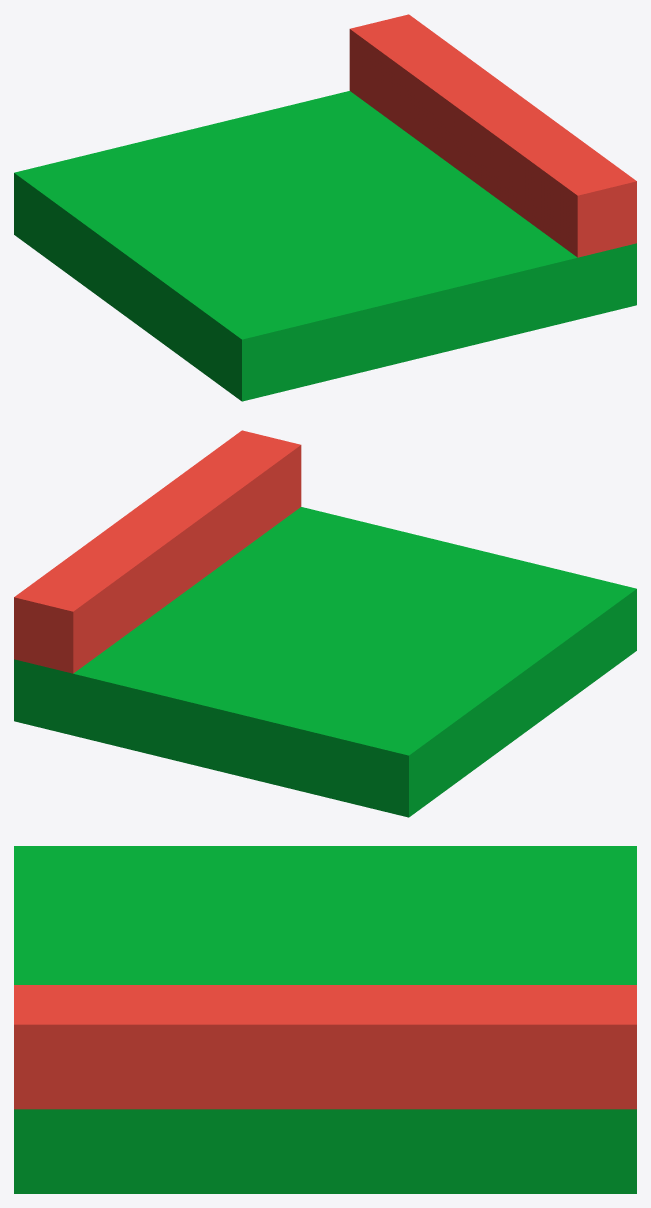
Rendered from straight_single.fbx.
The picture shows the model from 3 angles, top to bottom: view 1: azimuth 30°, elevation 25°; view 2: azimuth 150°, elevation 25°; view 3: azimuth 270°, elevation 25°; orthographic projection. The views are drawn at different scales.
Visible parts, largest first — view 1: green_straight_single_edge, side; view 2: green_straight_single_edge, side; view 3: green_straight_single_edge, side.
Part boxes in pixels (box(x1,y1,x2,y2)): green_straight_single_edge: box(14, 91, 636, 401); side: box(349, 14, 636, 257); green_straight_single_edge: box(14, 507, 636, 817); side: box(14, 430, 301, 673); green_straight_single_edge: box(14, 846, 636, 1193); side: box(14, 985, 636, 1109).
Size of the model in its own units: 200 by 60 by 200.
